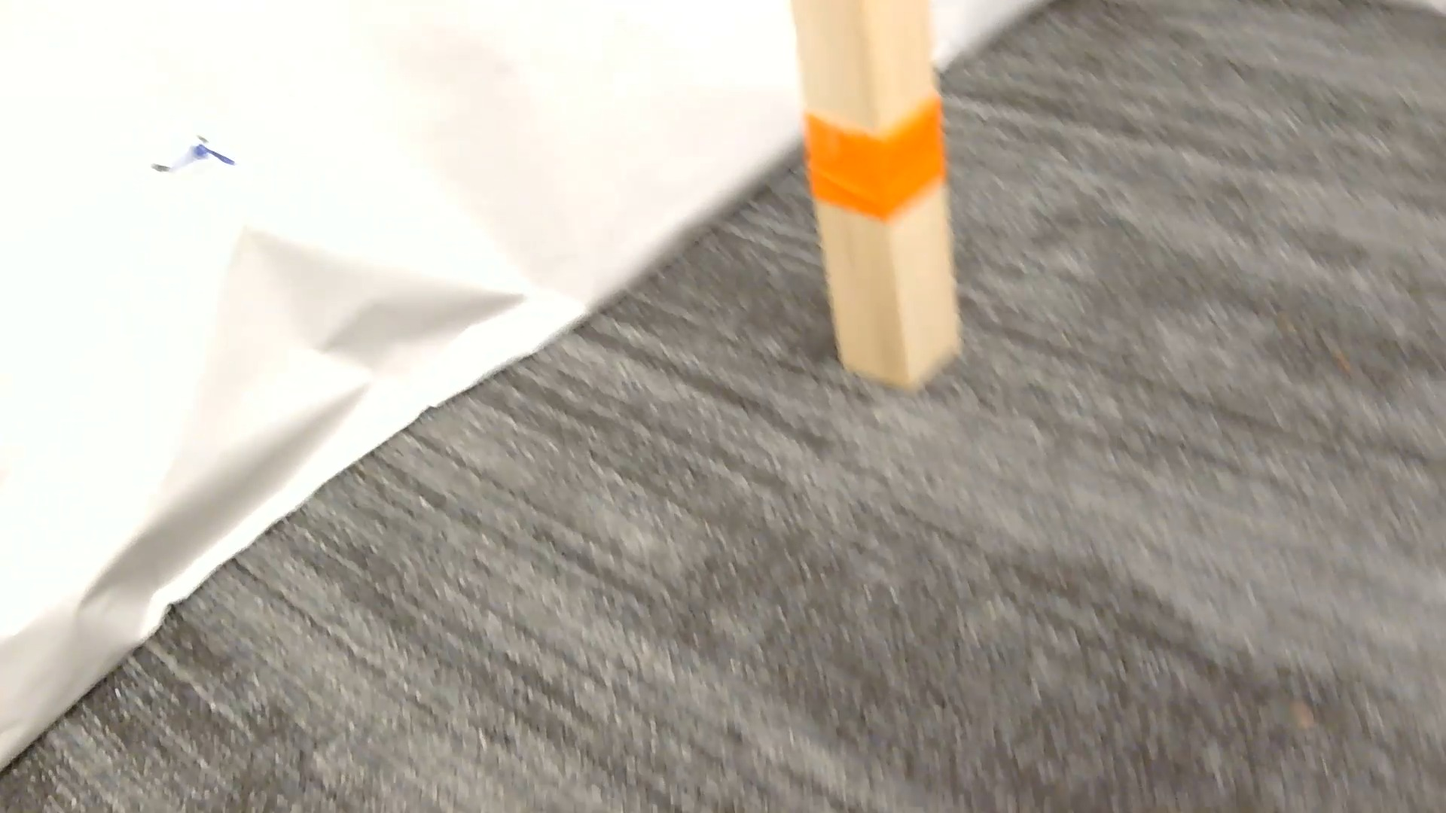Wooden Block: (791, 0, 959, 388)
